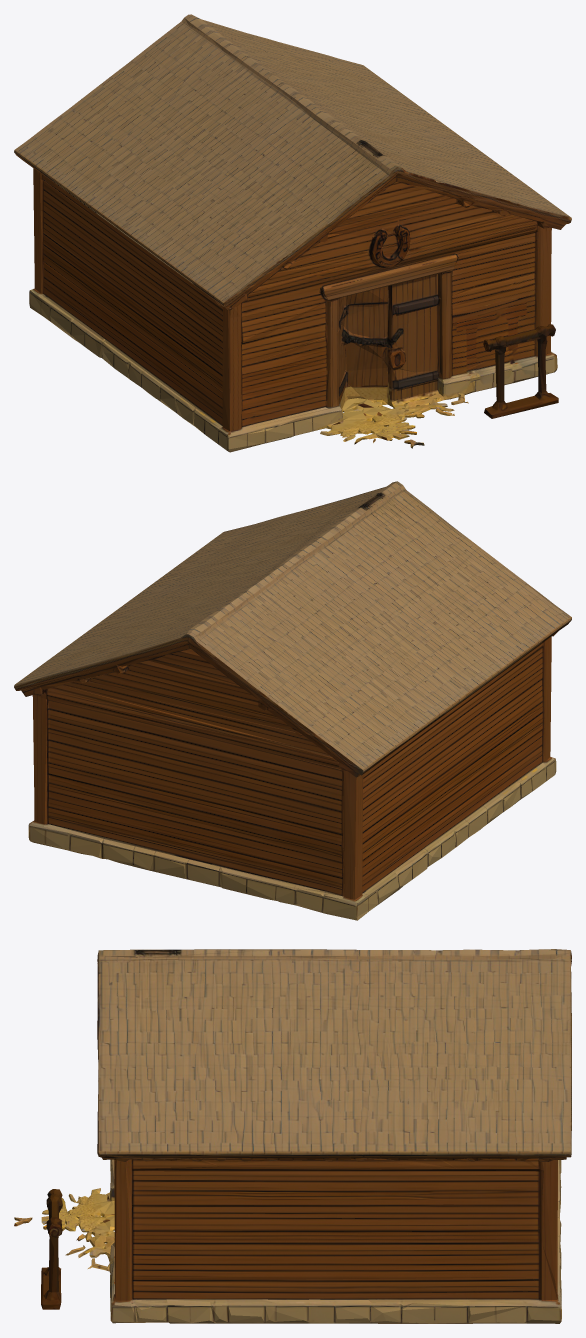
Rendered from stable.glb.
The picture shows the model from 3 angles, top to bottom: view 1: azimuth 30°, elevation 25°; view 2: azimuth 150°, elevation 25°; view 3: azimuth 270°, elevation 25°; orthographic projection. The views are drawn at different scales.
Visible parts, largest first — view 1: textured_mesh.obj; view 2: textured_mesh.obj; view 3: textured_mesh.obj.
Boxes of the visible parts, x1,y1,x2,y2 form: textured_mesh.obj: (14,14,571,452); textured_mesh.obj: (14,481,571,920); textured_mesh.obj: (14,949,571,1323).
Bounding box in the file's own units: 1.61 × 1.11 × 1.97.
1 material, 1 textured.
